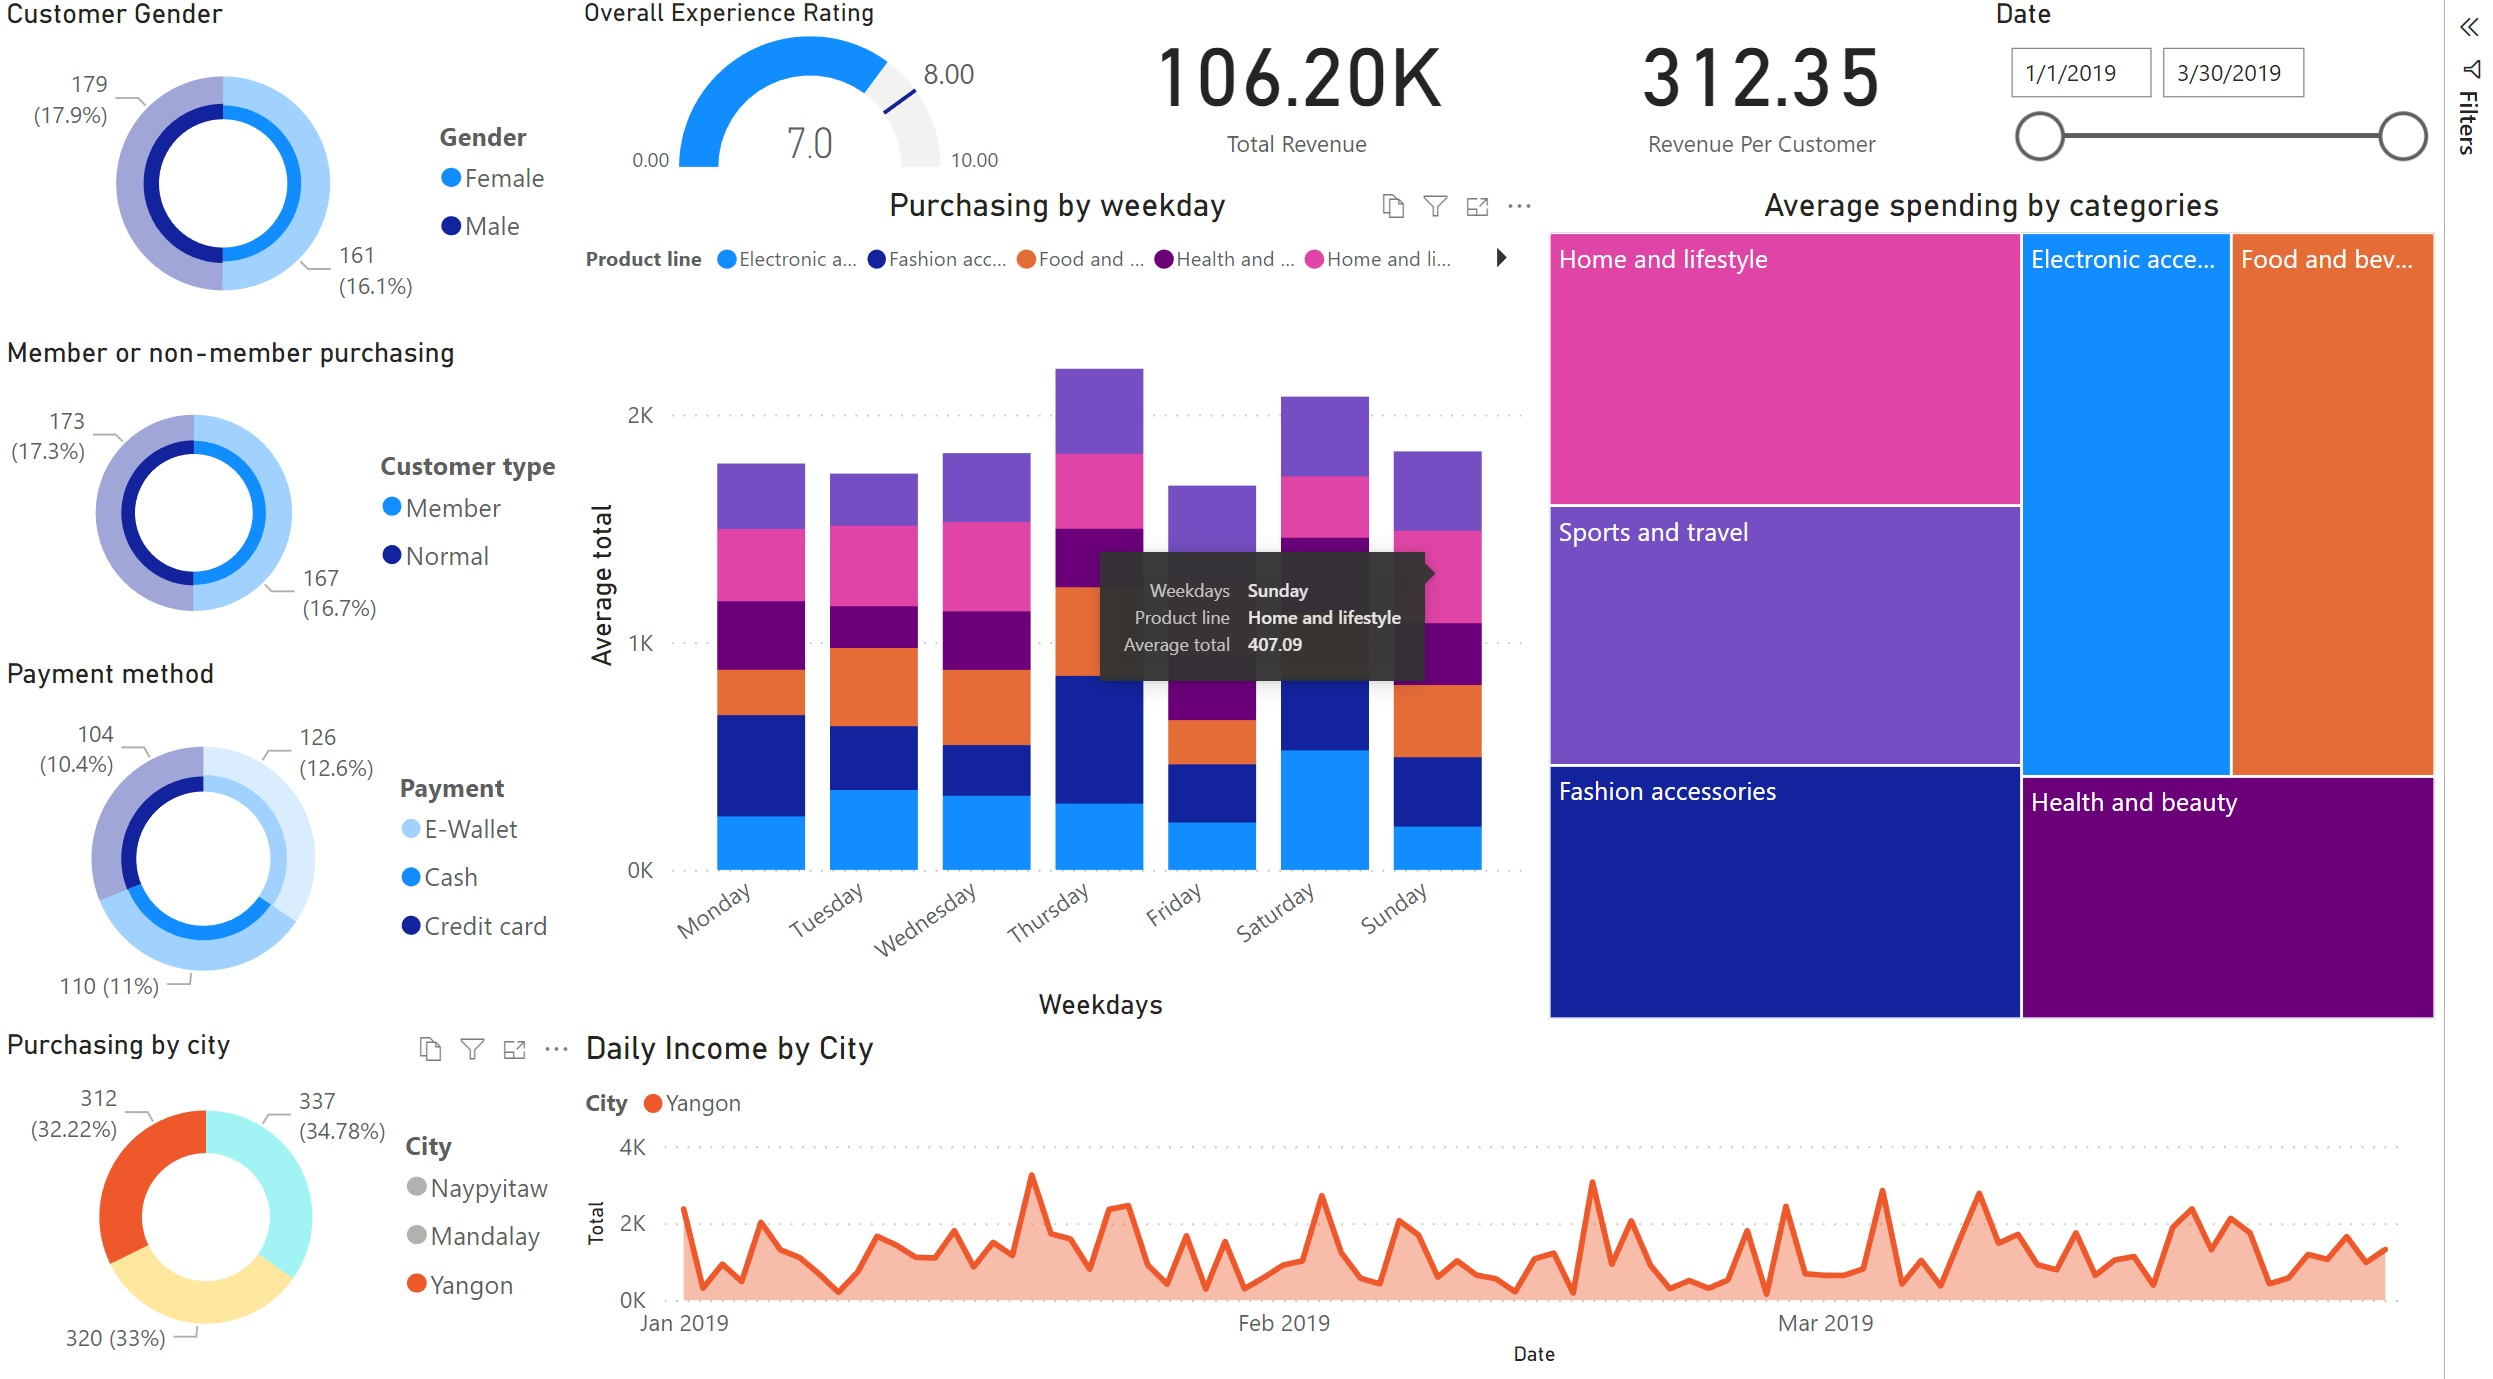

Layout of this report page (visuals, bound fields, positions):
{"tool":"powerbi","page":{"name":"Interactive Dashboard","canvas":[1280,720],"ordinal":0},"visuals":[{"type":"donutChart","title":"Member or non-member purchasing","fields":{"Category":["supermarket_sales.Customer type"],"Y":["CountNonNull(supermarket_sales.Customer type)"]},"box":[0,177.7,302.6,167.6],"z":0},{"type":"slicer","title":"Date","fields":{"Values":["supermarket_sales.Date"]},"box":[1040.4,0,239.6,88.9],"z":1000},{"type":"donutChart","title":"Purchasing by city","fields":{"Category":["supermarket_sales.City"],"Y":["Avg(supermarket_sales.Total)"]},"box":[0,538.8,302.6,181.1],"z":2000},{"type":"treemap","title":"Average spending by categories","fields":{"Group":["supermarket_sales.Product line"],"Values":["Avg(supermarket_sales.Total)"]},"box":[806.5,97.9,473.5,440.9],"z":3000},{"type":"columnChart","title":"Purchasing by weekday","fields":{"Category":["supermarket_sales.Weekdays"],"Y":["Avg(supermarket_sales.Total)"],"Series":["supermarket_sales.Product line"]},"box":[302.6,97.9,503.9,440.9],"z":4000},{"type":"gauge","title":"Overall Experience Rating","fields":{"MaxValue":["Max(supermarket_sales.Rating)"],"Y":["Avg(supermarket_sales.Rating)1"]},"box":[302.4,0,252,98.3],"z":5000},{"type":"donutChart","title":"Payment method","fields":{"Category":["supermarket_sales.Payment"],"Y":["CountNonNull(supermarket_sales.Invoice ID)"]},"box":[0,345.3,302.6,193.5],"z":6000},{"type":"donutChart","title":"Customer Gender","fields":{"Category":["supermarket_sales.Gender"],"Y":["CountNonNull(supermarket_sales.Gender)"]},"box":[0,0,302.6,177.7],"z":7000},{"type":"card","title":"Total Income","fields":{"Values":["Sum(supermarket_sales.Total)"]},"box":[554.3,0,252,89],"z":8000},{"type":"card","fields":{"Values":["Avg(supermarket_sales.Total)"]},"box":[806.3,0,234.3,89],"z":9000},{"type":"stackedAreaChart","title":"Daily Income by City","fields":{"Y":["Sum(supermarket_sales.Total)"],"Series":["supermarket_sales.City"],"Category":["supermarket_sales.Date"]},"box":[302.6,538.8,977.4,181.1],"z":10000}]}

Visuals, with their boxes in screenshot pixels (x1, y1, x2, y2), scaled from the page's 1280x720 canvas onto the 2493x1379 screenshot:
"Member or non-member purchasing" donutChart: left=0, top=340, right=589, bottom=661
"Date" slicer: left=2026, top=0, right=2492, bottom=170
"Purchasing by city" donutChart: left=0, top=1032, right=589, bottom=1378
"Average spending by categories" treemap: left=1571, top=188, right=2492, bottom=1032
"Purchasing by weekday" columnChart: left=589, top=188, right=1571, bottom=1032
"Overall Experience Rating" gauge: left=589, top=0, right=1080, bottom=188
"Payment method" donutChart: left=0, top=661, right=589, bottom=1032
"Customer Gender" donutChart: left=0, top=0, right=589, bottom=340
"Total Income" card: left=1080, top=0, right=1570, bottom=170
card - Avg(supermarket_sales.Total): left=1570, top=0, right=2027, bottom=170
"Daily Income by City" stackedAreaChart: left=589, top=1032, right=2492, bottom=1378
